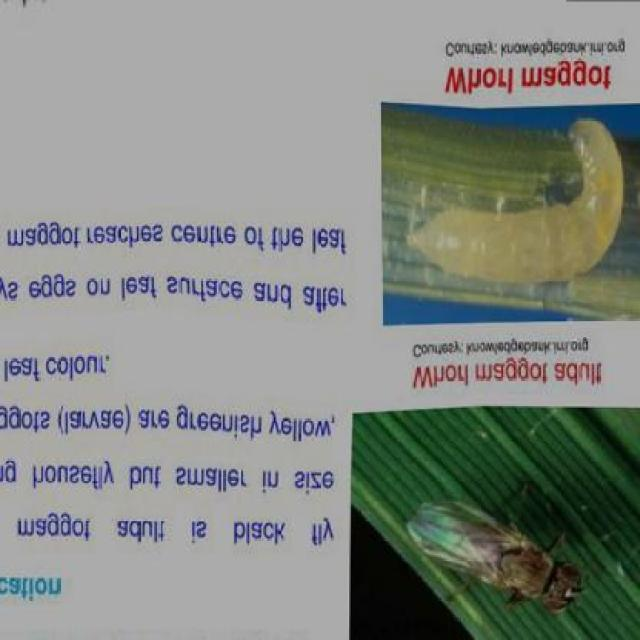whorl-maggot: (403, 115, 628, 296)
